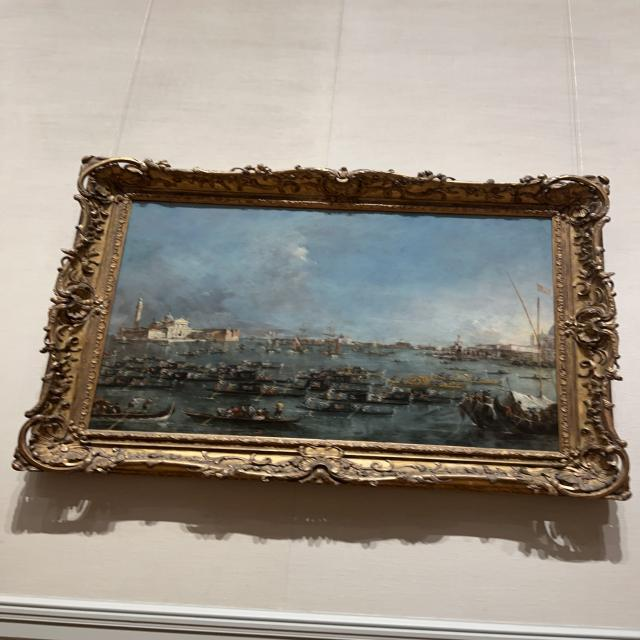ships: (98, 200, 550, 445)
